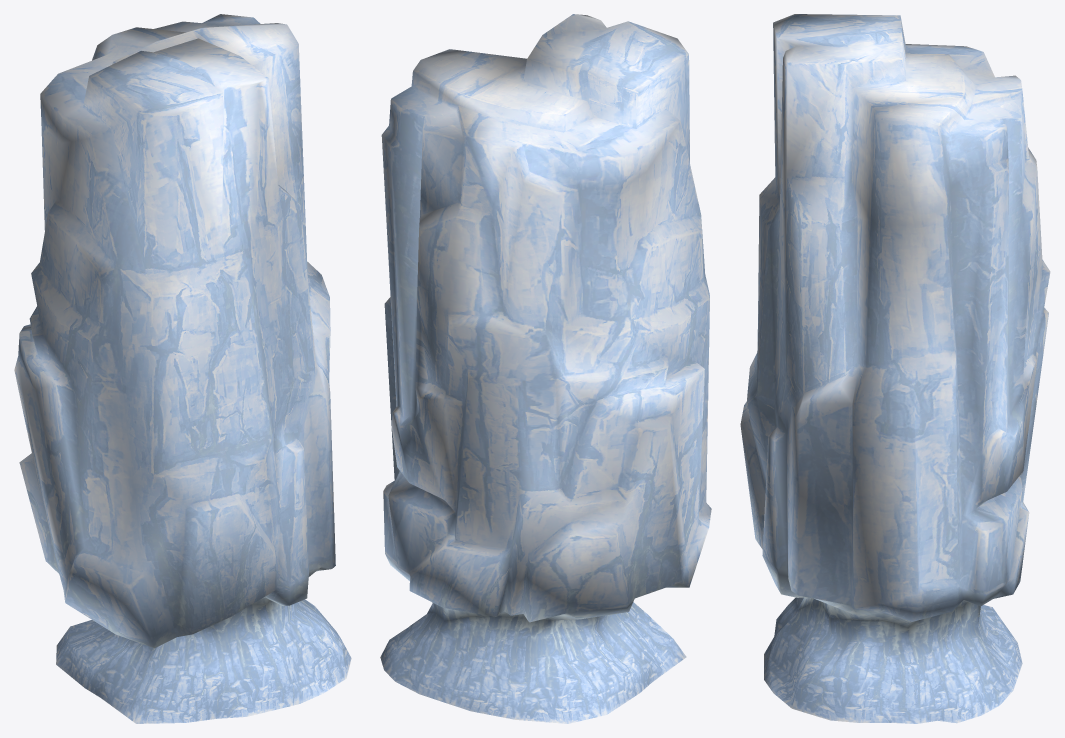
Rendered from bel_env_spire_03.glb.
3 views of the same model, side by side, from view 1: azimuth 30°, elevation 25°; view 2: azimuth 150°, elevation 25°; view 3: azimuth 270°, elevation 25° (orthographic). The views are drawn at different scales.
Visible parts, largest first — view 1: bel_env_spire_03; view 2: bel_env_spire_03; view 3: bel_env_spire_03.
Part boxes in pixels (x1=…): bel_env_spire_03: x1=14, y1=14, x2=351, y2=723; bel_env_spire_03: x1=380, y1=14, x2=711, y2=723; bel_env_spire_03: x1=740, y1=14, x2=1050, y2=723.
Size of the model in its own units: 4.43 by 9.07 by 4.18.
Materials: 2 (2 with a texture image).
